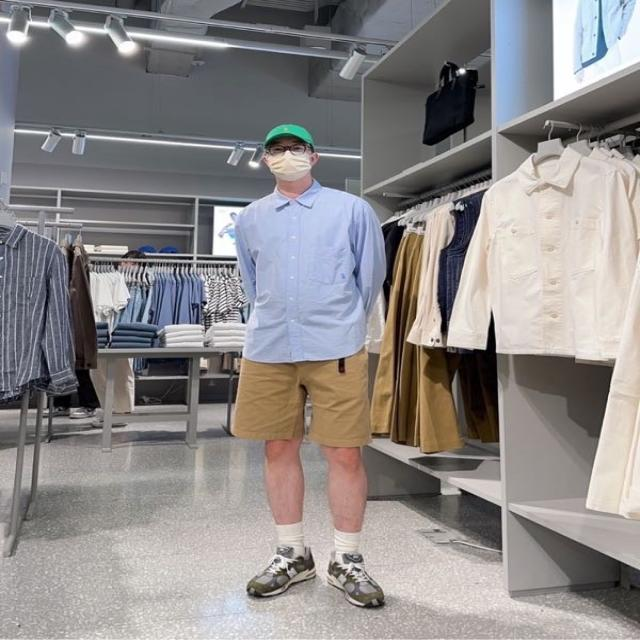shirt: (235, 178, 382, 363)
shortpants: (230, 340, 373, 448)
